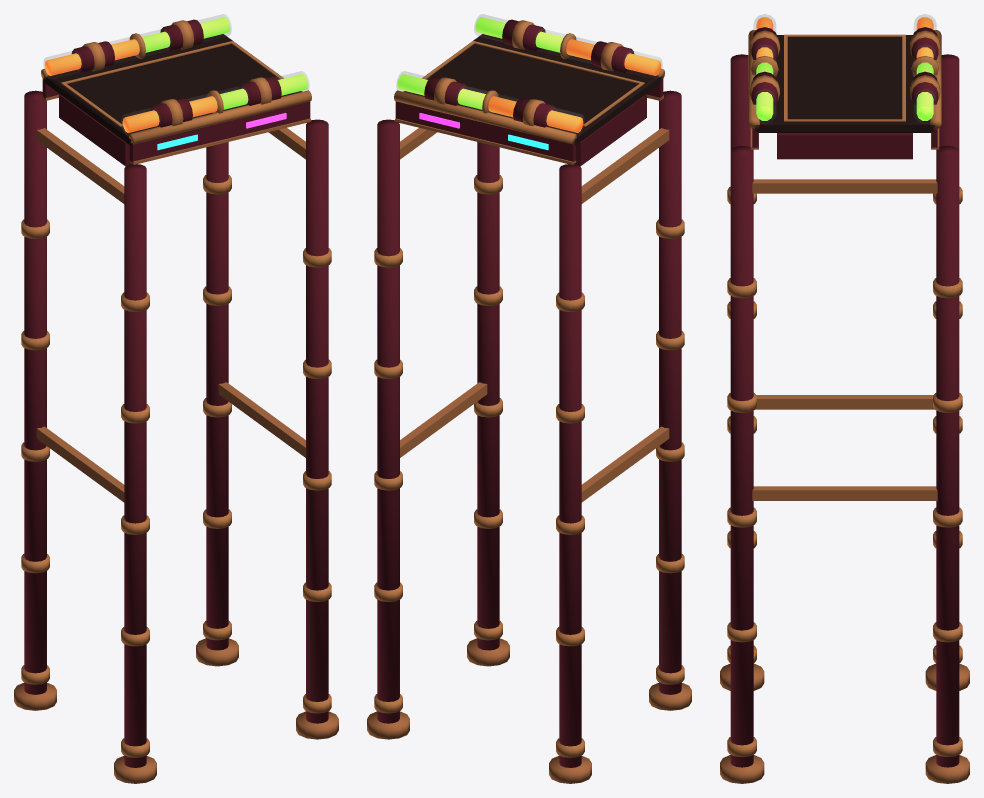
Rendered from Deck_Overpass_Span.glb.
3 views of the same model, side by side, from view 1: azimuth 30°, elevation 25°; view 2: azimuth 150°, elevation 25°; view 3: azimuth 270°, elevation 25° (orthographic). The views are drawn at different scales.
Parts seen in each view (by area): view 1: CP_Deck_Overpass_Span; view 2: CP_Deck_Overpass_Span; view 3: CP_Deck_Overpass_Span.
Boxes of the visible parts, left/top/right/bottom form: CP_Deck_Overpass_Span: left=14, top=14, right=338, bottom=783; CP_Deck_Overpass_Span: left=367, top=14, right=691, bottom=783; CP_Deck_Overpass_Span: left=720, top=14, right=969, bottom=783.
Bounding box in the file's own units: 4.94 × 14.09 × 4.74.
